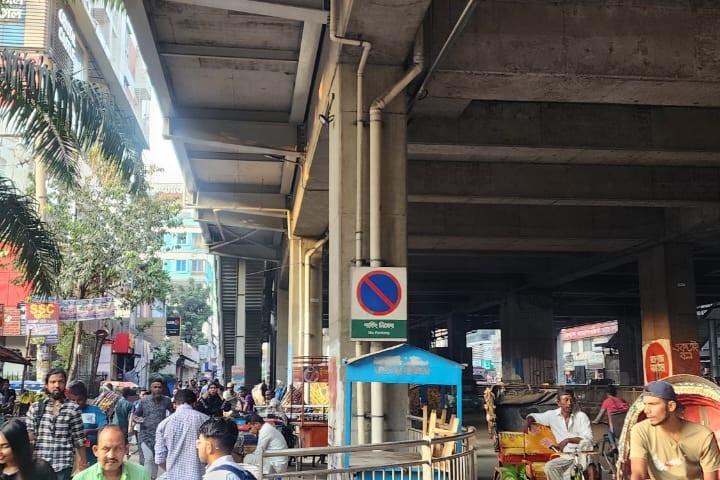No Parking: (349, 267, 408, 339)
